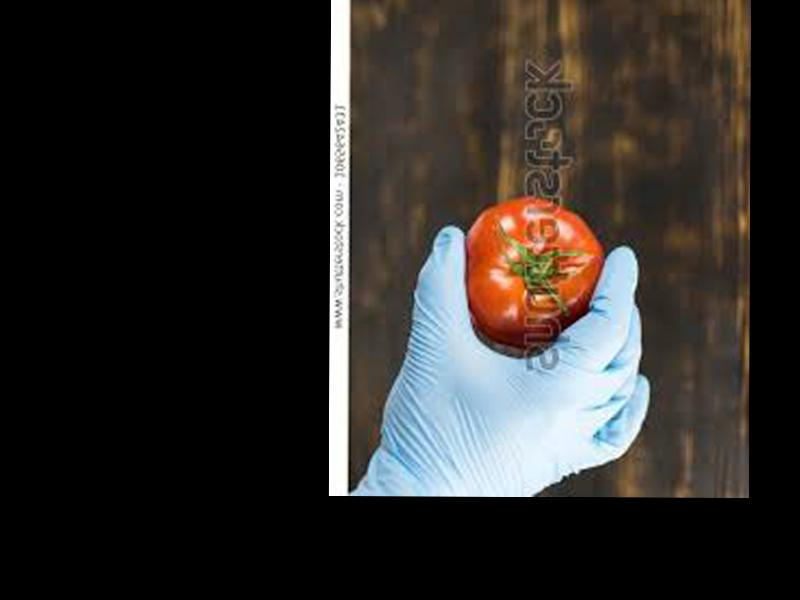Tomato: (463, 194, 604, 350)
